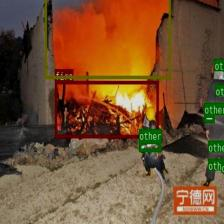fire: (55, 81, 158, 137)
smoke: (45, 0, 170, 78)
